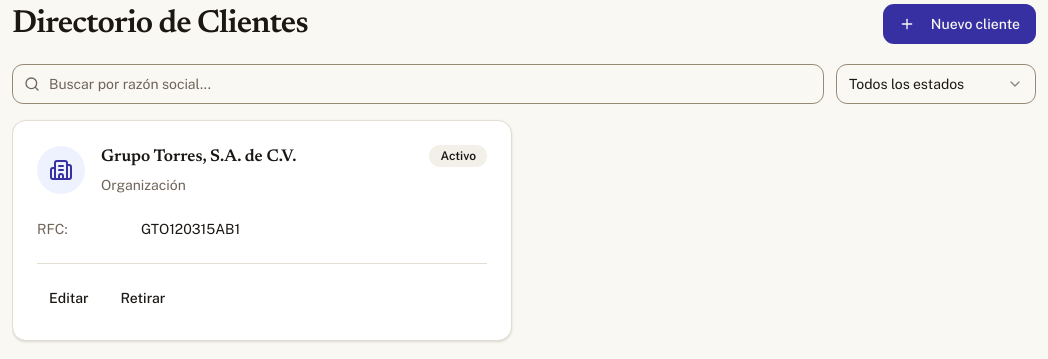
Test: the five states are mutually distinguishable › renders a no-matches empty state that names what was searched
Expected: the heading "Grupo Torres, S.A. de C.V." is shown, x1=101 y1=145 x2=296 y2=170
Type "zzz" into the search field labelled "Buscar por razón social..." at (418, 84), box x1=12 y1=64 x2=824 y2=104
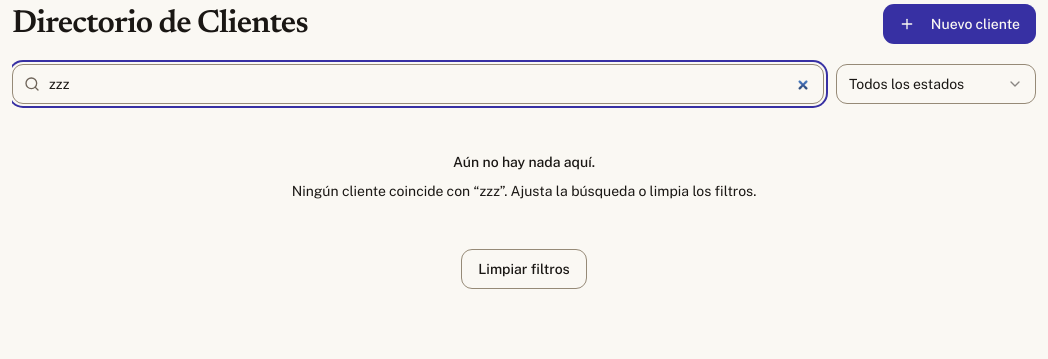
Expected: the text with test id "empty-state-guidance" shows "zzz", x1=292 y1=183 x2=756 y2=199
